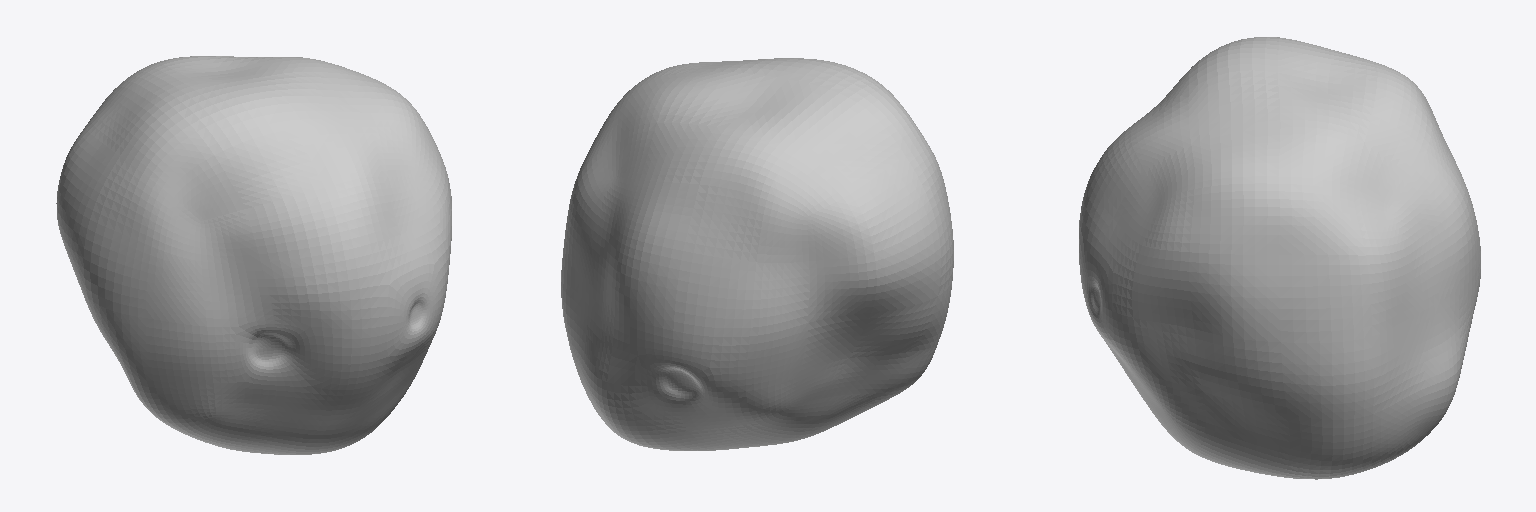
Rendered from 10464_Asteroid_v1_Iterations-2-1x.obj.
3 renders of one model, left to right at view 1: azimuth 30°, elevation 25°; view 2: azimuth 150°, elevation 25°; view 3: azimuth 270°, elevation 25°, orthographic.
Parts seen in each view (by area): view 1: 10464_Asteroid_v1_Iterations-2; view 2: 10464_Asteroid_v1_Iterations-2; view 3: 10464_Asteroid_v1_Iterations-2.
Part boxes in pixels (x1,y1,x2,y2): 10464_Asteroid_v1_Iterations-2: (56, 56, 451, 454); 10464_Asteroid_v1_Iterations-2: (561, 58, 953, 450); 10464_Asteroid_v1_Iterations-2: (1079, 37, 1480, 479).
Size of the model in its own units: 9.97 by 10.1 by 10.05.